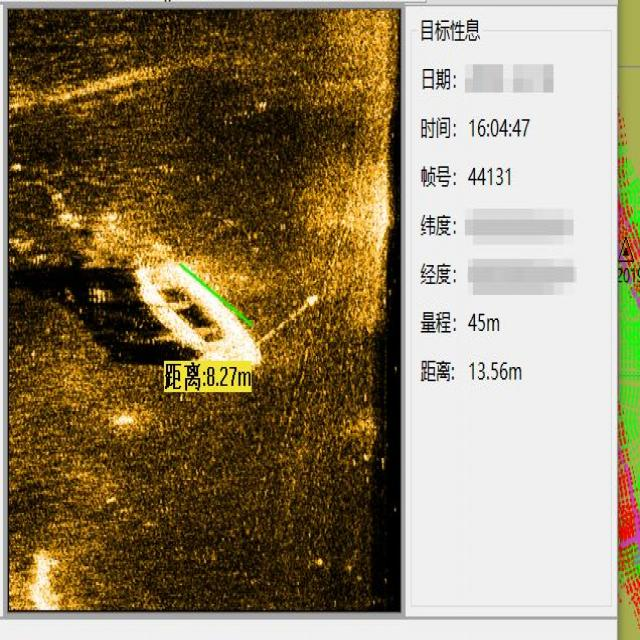ship: (127, 259, 260, 373)
